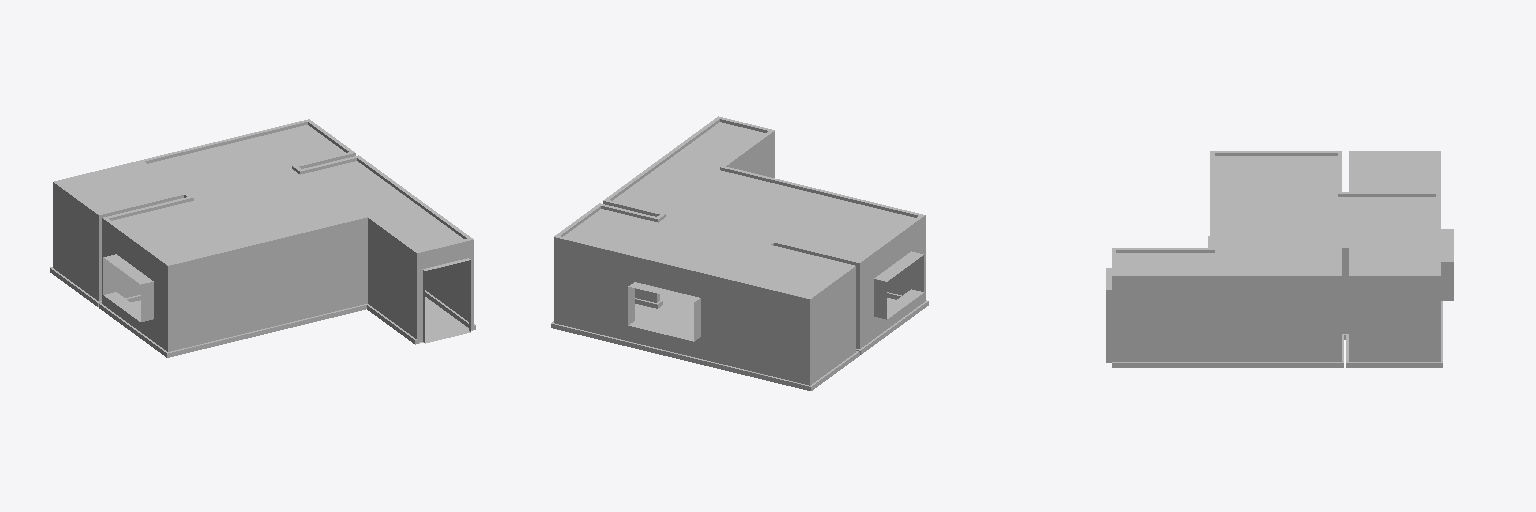
Rendered from Room.obj.
3 renders of one model, left to right at view 1: azimuth 30°, elevation 25°; view 2: azimuth 150°, elevation 25°; view 3: azimuth 270°, elevation 25°, orthographic.
Parts seen in each view (by area): view 1: Roof_Площина.005, Floor_Площина.004; view 2: Roof_Площина.005, Floor_Площина.004; view 3: Roof_Площина.005.
Boxes of the visible parts, x1=… form: Roof_Площина.005: x1=50, y1=119, x2=475, y2=357; Floor_Площина.004: x1=131, y1=297, x2=471, y2=343; Roof_Площина.005: x1=551, y1=116, x2=928, y2=390; Floor_Площина.004: x1=635, y1=294, x2=895, y2=334; Roof_Площина.005: x1=1106, y1=151, x2=1453, y2=367.
Bounding box in the file's own units: 519 × 166 × 575.